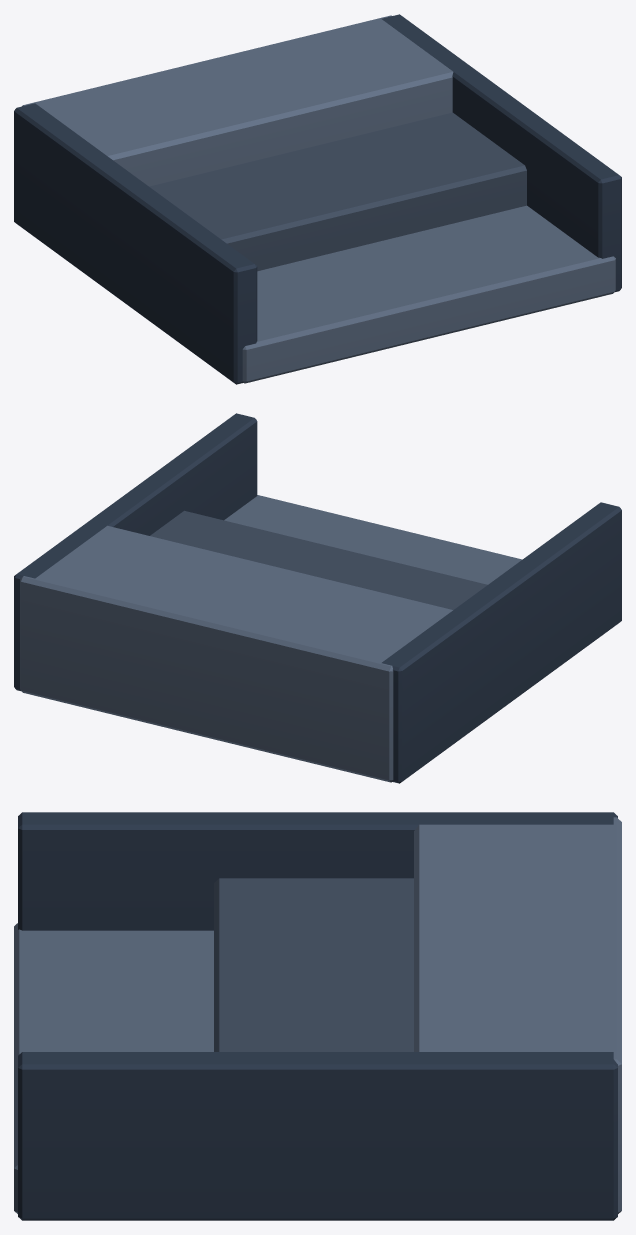
Rendered from stair_metal.glb.
3 renders of one model, top to bottom at view 1: azimuth 30°, elevation 25°; view 2: azimuth 150°, elevation 25°; view 3: azimuth 270°, elevation 25°, orthographic. The views are drawn at different scales.
Visible parts, largest first — view 1: stair_metal; view 2: stair_metal; view 3: stair_metal.
Part boxes in pixels (left/top/right/bottom): stair_metal: left=14, top=14, right=621, bottom=384; stair_metal: left=14, top=413, right=621, bottom=783; stair_metal: left=14, top=812, right=621, bottom=1220.
Size of the model in its own units: 1.47 by 0.42 by 1.48.
